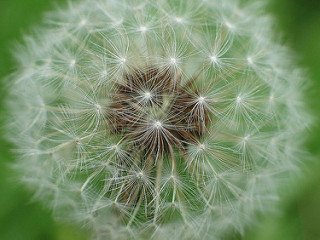dandelion: (1, 1, 314, 240)
